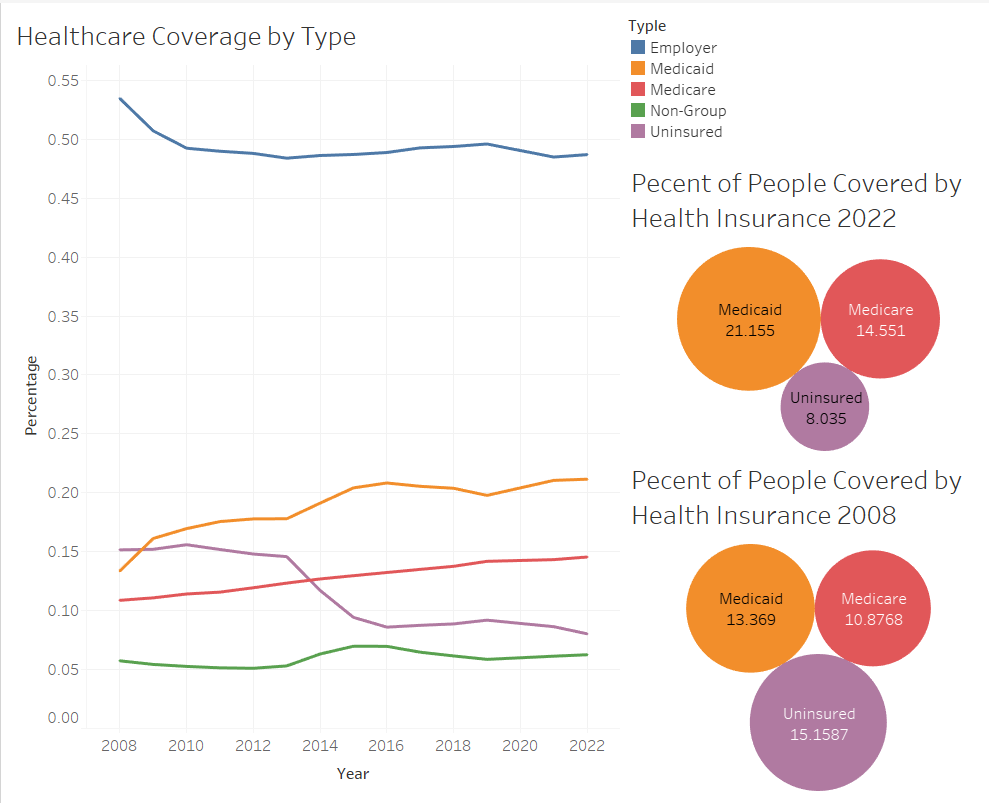

Layout of this report page (visuals, bound fields, positions):
{"tool":"tableau","page":{"name":"Healthcare Dashboard","canvas":[1000,800],"ordinal":1},"visuals":[{"type":"worksheet","title":"Healthcare Coverage by Typle","mark":"Automatic","rows":["Percentage"],"cols":["Year"],"box":[8,8,615,784]},{"type":"legend","title":"Healthcare Coverage by Typle","param":"[federated.1p2pkhz0adou4y19wdwq508cjssq].[none:Typle:nk]","box":[623,8,369,147]},{"type":"worksheet","title":"Typle 2022","mark":"Circle","box":[623,155,369,297]},{"type":"worksheet","title":"Typle 2008","mark":"Circle","box":[623,452,369,340]}]}

Visuals, with their boxes in screenshot pixels (x1, y1, x2, y2), scaled from the page's 1000x800 canvas onto the 989x803 screenshot:
"Healthcare Coverage by Typle" worksheet: bbox(8, 8, 616, 795)
"Healthcare Coverage by Typle" legend: bbox(616, 8, 981, 156)
"Typle 2022" worksheet (Circle marks): bbox(616, 156, 981, 454)
"Typle 2008" worksheet (Circle marks): bbox(616, 454, 981, 795)
